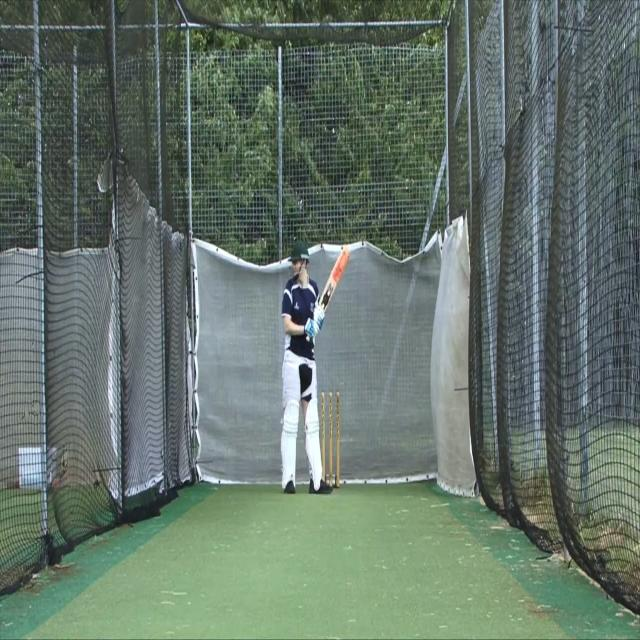batsman: (278, 240, 350, 495)
